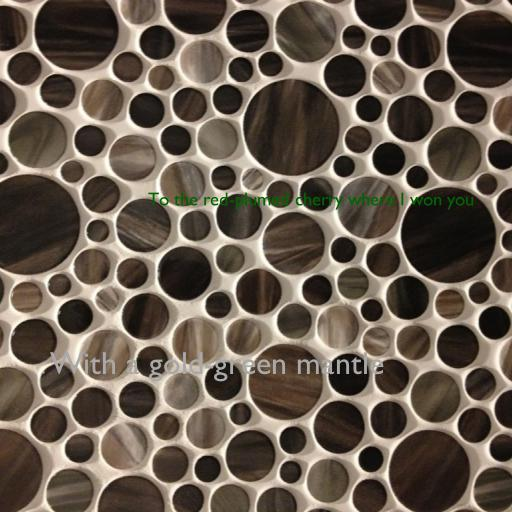Gill Sans: (50, 352, 384, 382), (148, 192, 474, 210)
